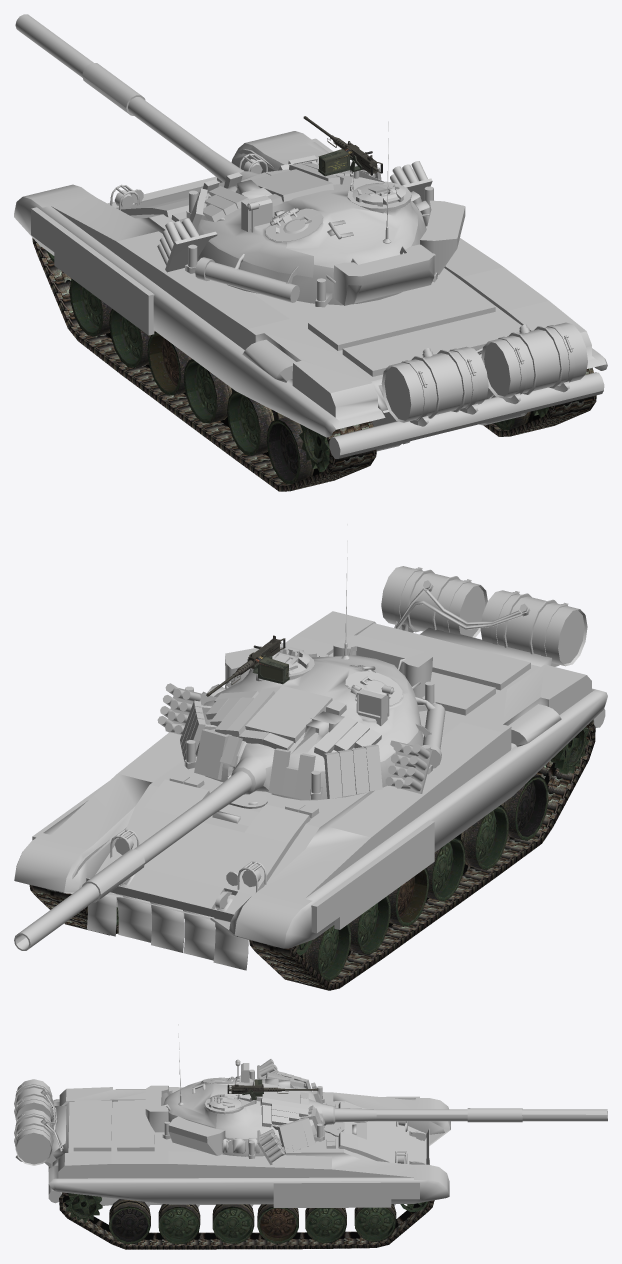
File: pt91m-pendekar.fbx
The picture shows the model from 3 angles, top to bottom: view 1: azimuth 30°, elevation 25°; view 2: azimuth 150°, elevation 25°; view 3: azimuth 270°, elevation 25°; orthographic projection. The views are drawn at different scales.
Parts seen in each view (by area): view 1: chassis, misc_a, gear533, track_1, misc_b, wheel_small_6, wheel_small_5, wheel_small_4, wheel_small_3, wheel_small_2, wheel_small_1, weapon (+1 smaller); view 2: chassis, misc_a, gear533, track_1, misc_b, wheel_small_5, wheel_small_6, wheel_small_1, wheel_small_4, wheel_small_2, wheel_small_3, weapon (+1 smaller); view 3: chassis, misc_a, track_1, misc_b, gear533, wheel_small_6, wheel_small_5, wheel_small_4, wheel_small_3, wheel_small_2, wheel_small_1, wheel_big_1 (+1 smaller).
Part boxes in pixels (x1,y1,x2,y2): chassis: (14,131,607,458); misc_a: (157,121,465,307); gear533: (381,322,587,425); track_1: (32,238,596,491); misc_b: (15,14,258,183); wheel_small_6: (266,411,533,484); wheel_small_5: (227,391,285,455); wheel_small_4: (183,359,235,423); wheel_small_3: (147,331,191,395); wheel_small_2: (109,309,154,367); wheel_small_1: (69,279,111,336); weapon: (303,116,382,176); chassis: (14,611,607,970); misc_a: (157,524,445,800); gear533: (381,566,587,666); track_1: (29,719,595,990); misc_b: (14,752,272,950); wheel_small_5: (457,805,508,870); wheel_small_6: (501,774,548,840); wheel_small_1: (87,906,350,981); wheel_small_4: (426,836,465,901); wheel_small_2: (349,895,390,954); wheel_small_3: (388,868,428,926); weapon: (206,635,289,696); chassis: (15,1087,450,1207); misc_a: (145,1024,325,1164); track_1: (59,1192,434,1249); misc_b: (317,1103,607,1125); gear533: (14,1079,63,1165); wheel_small_6: (109,1199,150,1243); wheel_small_5: (158,1204,200,1243); wheel_small_4: (212,1204,254,1243); wheel_small_3: (257,1204,298,1243); wheel_small_2: (305,1208,346,1243); wheel_small_1: (354,1204,396,1242); wheel_big_1: (65,1193,102,1222).
Size of the model in its own units: 347 by 370 by 1008.
